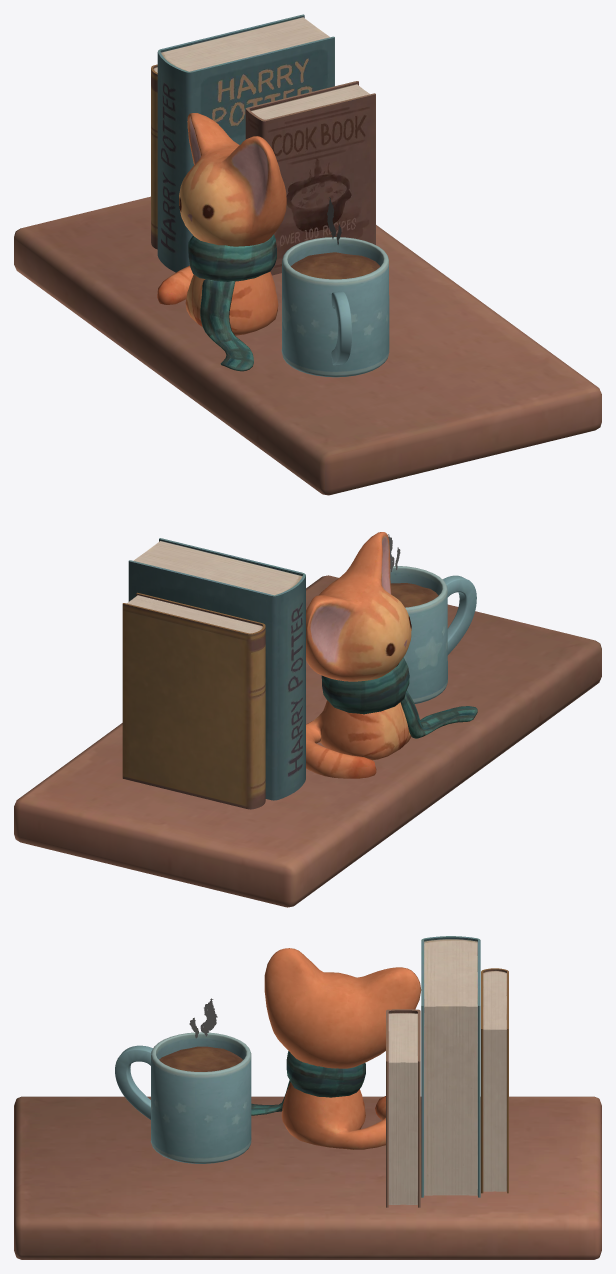
The model's file is cat_books.glb.
The picture shows the model from 3 angles, top to bottom: view 1: azimuth 30°, elevation 25°; view 2: azimuth 150°, elevation 25°; view 3: azimuth 270°, elevation 25°; orthographic projection. The views are drawn at different scales.
Visible parts, largest first — view 1: shelf_Material.002_0, book1_Material.003_0, scarf2_Material.001_0; view 2: shelf_Material.002_0, book1_Material.003_0, scarf2_Material.001_0; view 3: shelf_Material.002_0, book1_Material.003_0, scarf2_Material.001_0, steam_steam_0.
Part boxes in pixels (x1,y1,x2,y2): shelf_Material.002_0: (14, 196, 601, 495); book1_Material.003_0: (151, 14, 375, 275); scarf2_Material.001_0: (157, 113, 286, 371); shelf_Material.002_0: (14, 566, 601, 907); book1_Material.003_0: (122, 538, 305, 809); scarf2_Material.001_0: (306, 532, 477, 778); shelf_Material.002_0: (14, 1032, 601, 1259); book1_Material.003_0: (386, 936, 508, 1207); scarf2_Material.001_0: (251, 948, 421, 1149); steam_steam_0: (189, 998, 217, 1038).
Size of the model in its own units: 4.99 by 4.19 by 9.58.
Materials: 4 (4 with a texture image).
